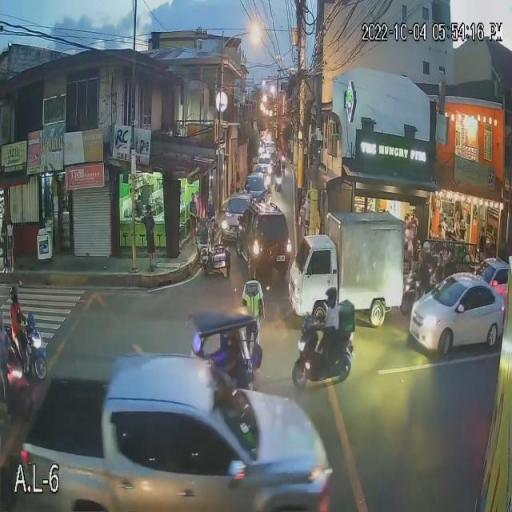helmet: (324, 288, 339, 302), (10, 284, 21, 296)
motorcycle: (290, 319, 356, 390), (0, 311, 50, 384)
rider: (311, 287, 345, 365), (10, 284, 35, 354)
